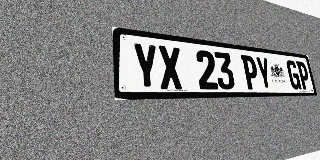2: (195, 49, 218, 89)
3: (214, 51, 235, 89)
G: (286, 60, 302, 89)
P: (241, 55, 260, 89), (296, 61, 311, 89)
X: (157, 45, 183, 89)
Y: (132, 42, 160, 89), (255, 56, 273, 89)
